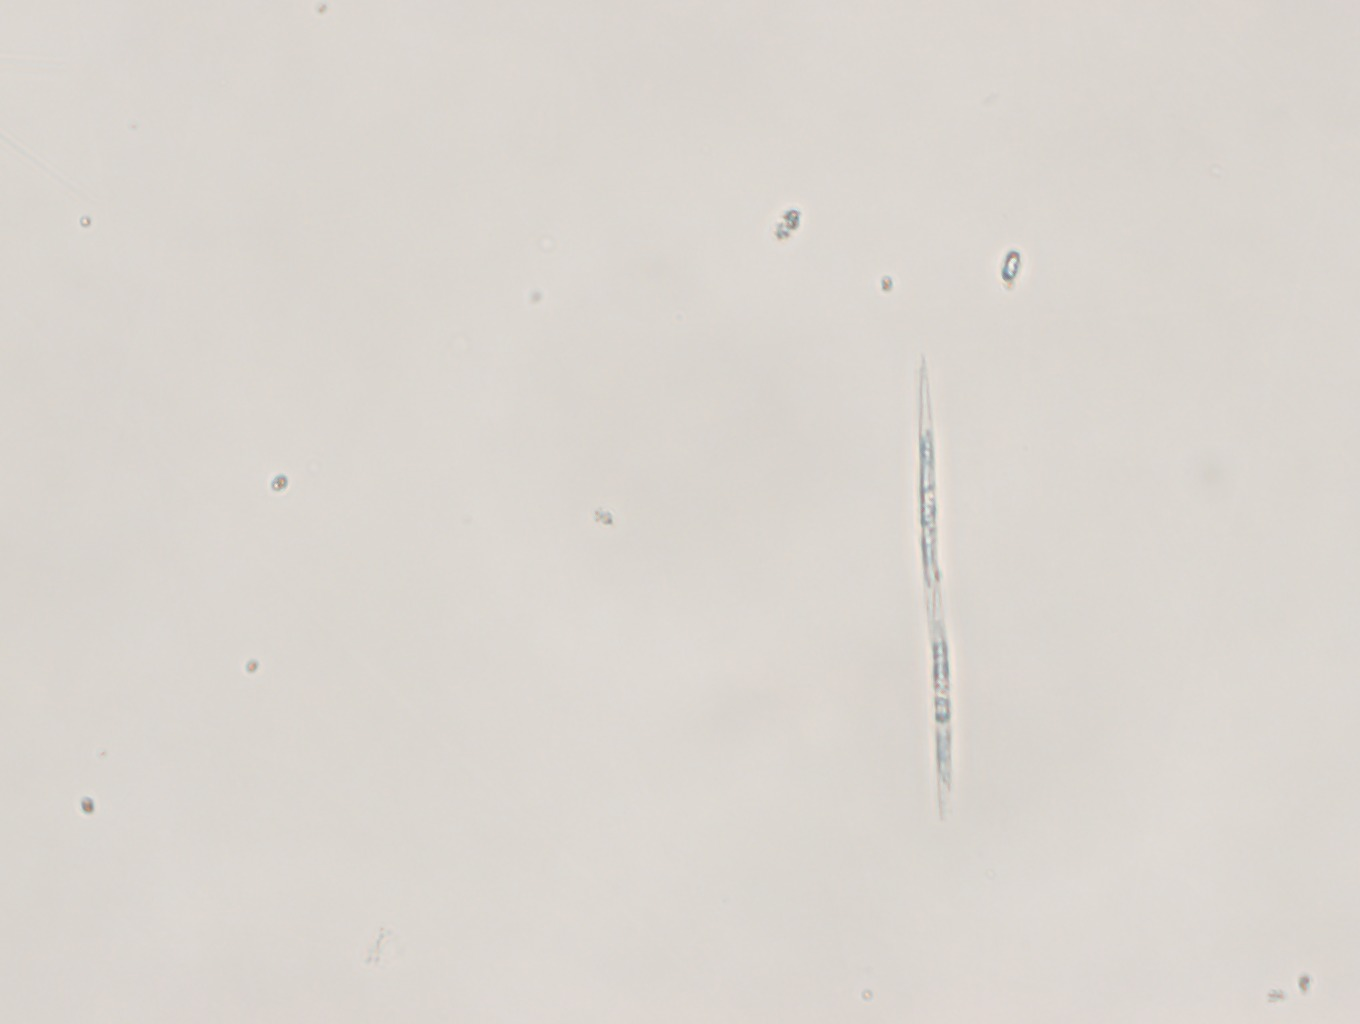ceratium fusus: (889, 358, 976, 831)
